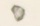microplastic: (10, 5, 27, 22)
